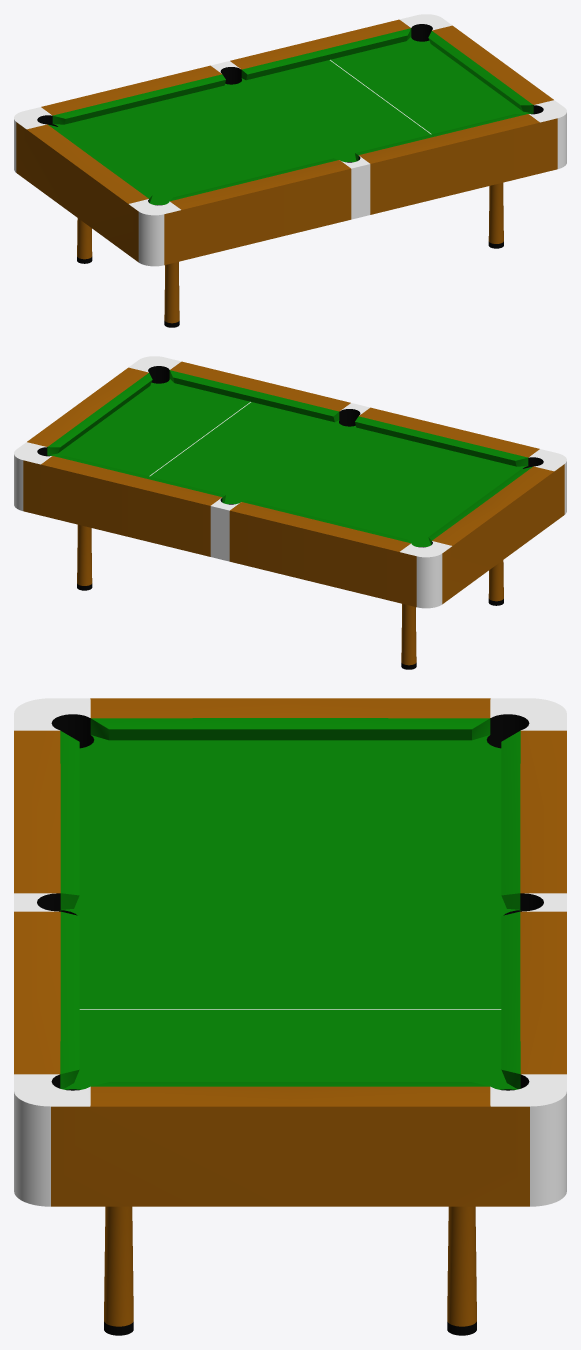
The model's file is Table.fbx.
3 views of the same model, one above another, from view 1: azimuth 30°, elevation 25°; view 2: azimuth 150°, elevation 25°; view 3: azimuth 270°, elevation 25° (orthographic). The views are drawn at different scales.
Visible parts, largest first — view 1: Table; view 2: Table; view 3: Table.
Part boxes in pixels (x1,y1,x2,y2): Table: (14, 14, 566, 327); Table: (14, 356, 566, 669); Table: (14, 698, 566, 1335).
Size of the model in its own units: 262 by 81.28 by 150.
